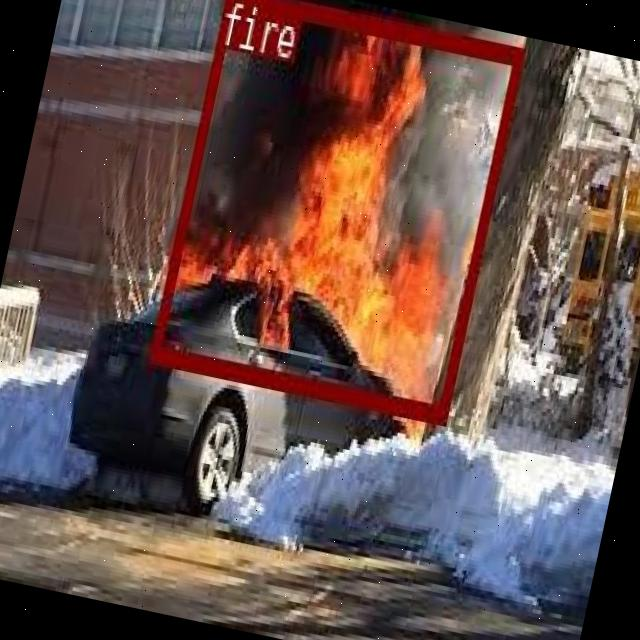fire: (147, 0, 524, 421)
